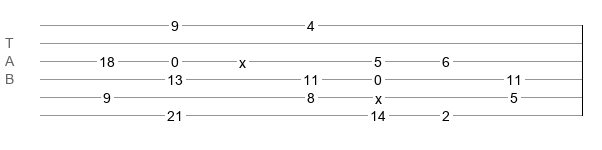0: (171, 54, 179, 64), (374, 72, 382, 82)
11: (303, 72, 319, 82), (506, 72, 522, 82)
13: (167, 72, 183, 82)
14: (370, 108, 386, 118)
18: (99, 54, 115, 64)
2: (442, 108, 450, 118)
21: (167, 108, 183, 118)
4: (307, 18, 315, 28)
5: (374, 54, 382, 64), (510, 90, 518, 100)
6: (442, 54, 450, 64)
8: (307, 90, 315, 100)
9: (103, 90, 111, 100), (171, 18, 179, 28)
x: (239, 55, 246, 63), (375, 91, 382, 99)
